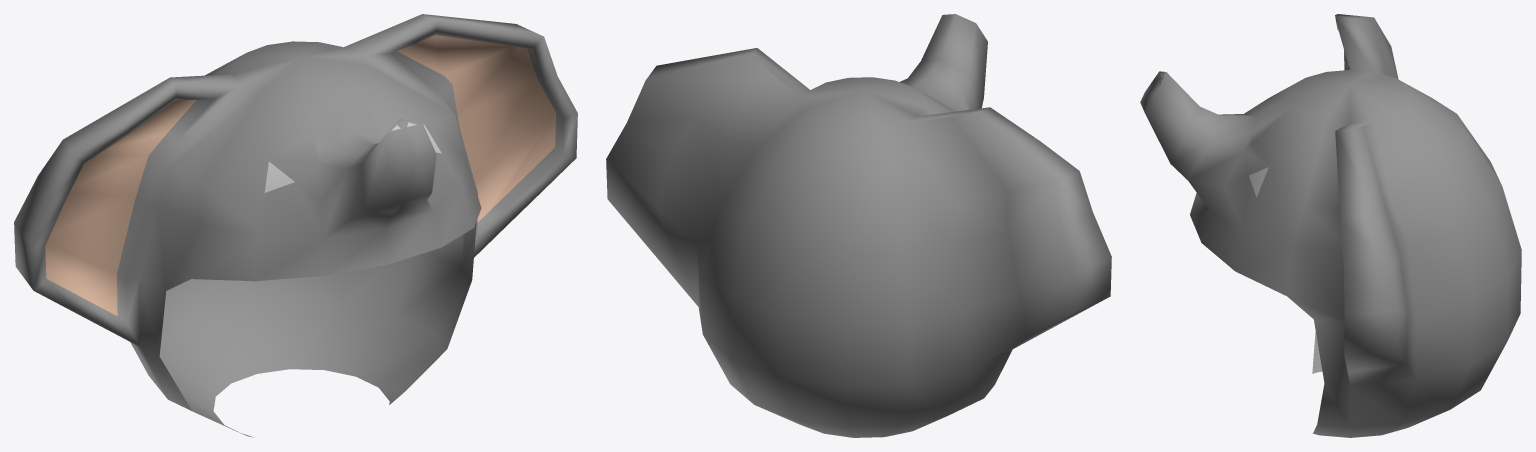
File: ElephantHead.fbx
3 renders of one model, left to right at view 1: azimuth 30°, elevation 25°; view 2: azimuth 150°, elevation 25°; view 3: azimuth 270°, elevation 25°, orthographic. The views are drawn at different scales.
Visible parts, largest first — view 1: Head_1; view 2: Head_1; view 3: Head_1.
Part boxes in pixels (box(x1,y1,x2,y2)): Head_1: box(14, 14, 577, 437); Head_1: box(606, 14, 1111, 437); Head_1: box(1140, 14, 1521, 437).
Size of the model in its own units: 361 by 229 by 239.
